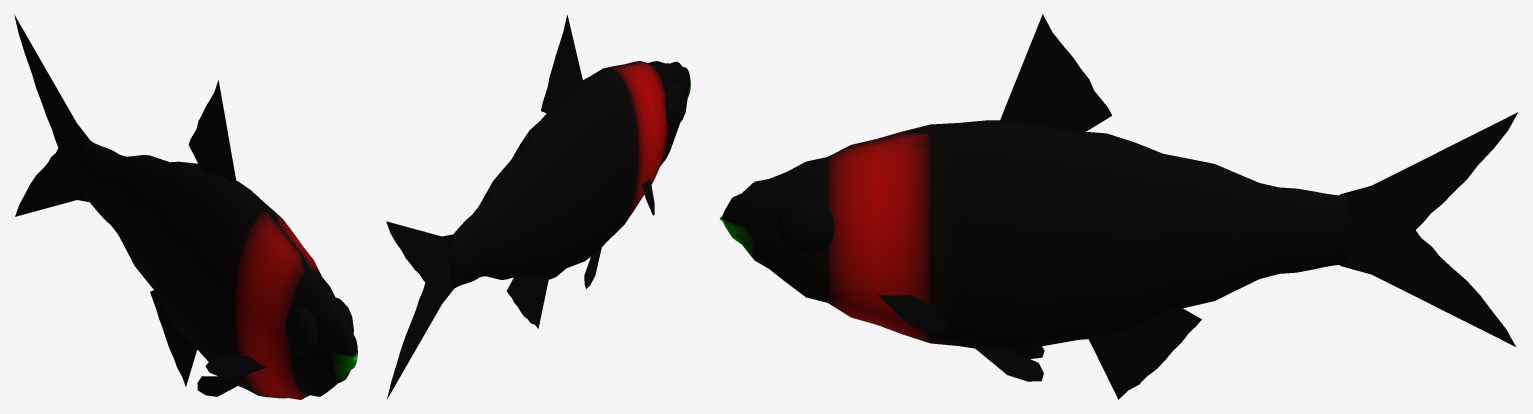
The model's file is harlequin-rasbora.glb.
The picture shows the model from 3 angles, left to right: view 1: azimuth 30°, elevation 25°; view 2: azimuth 150°, elevation 25°; view 3: azimuth 270°, elevation 25°; orthographic projection. The views are drawn at different scales.
Visible parts, largest first — view 1: harlequin_body, harlequin_caudal, harlequin_dorsal, harlequin_anal, harlequin_eyeL, harlequin_pectoralL, harlequin_pelvicL; view 2: harlequin_body, harlequin_caudal, harlequin_dorsal, harlequin_anal, harlequin_eyeL, harlequin_pelvicL; view 3: harlequin_body, harlequin_caudal, harlequin_dorsal, harlequin_anal, harlequin_eyeR, harlequin_pectoralR, harlequin_pelvicR.
Part boxes in pixels (x1,y1,x2,y2): harlequin_body: [78, 140, 357, 399]; harlequin_caudal: [14, 14, 90, 216]; harlequin_dorsal: [188, 80, 236, 185]; harlequin_anal: [150, 290, 197, 386]; harlequin_eyeL: [285, 305, 317, 357]; harlequin_pectoralL: [205, 354, 266, 378]; harlequin_pelvicL: [197, 376, 238, 396]; harlequin_body: [450, 61, 690, 288]; harlequin_caudal: [386, 221, 453, 399]; harlequin_dorsal: [541, 15, 583, 115]; harlequin_anal: [507, 275, 549, 328]; harlequin_eyeL: [665, 83, 687, 128]; harlequin_pelvicL: [584, 247, 601, 288]; harlequin_body: [719, 120, 1348, 350]; harlequin_caudal: [1340, 112, 1518, 346]; harlequin_dorsal: [999, 14, 1111, 132]; harlequin_anal: [1088, 308, 1201, 399]; harlequin_eyeR: [776, 197, 834, 254]; harlequin_pectoralR: [878, 294, 946, 332]; harlequin_pelvicR: [974, 347, 1043, 381].
Size of the model in its own units: 0.2338 by 0.6793 by 1.27.
